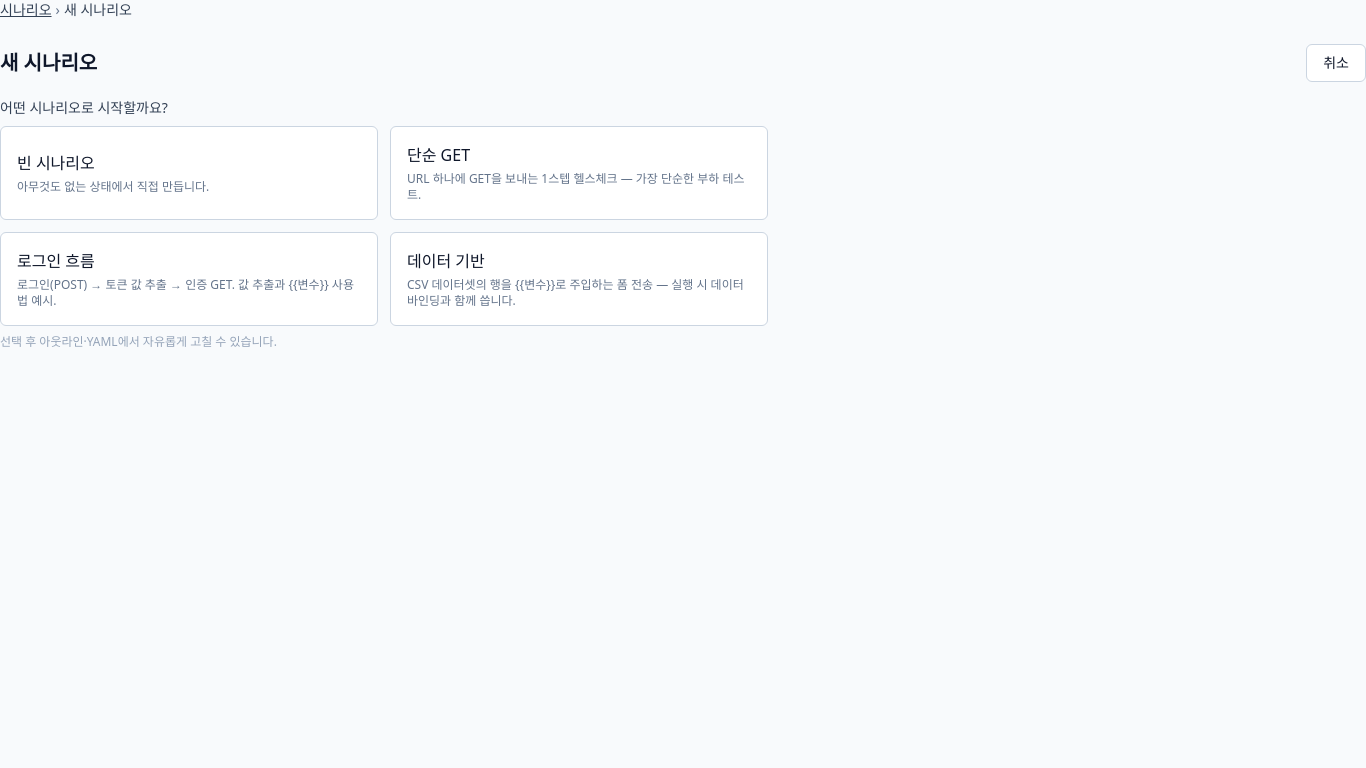
it: ScenarioNewPage 이탈 가드 › 계속 편집 → 다이얼로그 닫히고 잔류
Click the button "단순 GET URL 하나에 GET을 보내는 1스텝 헬스체크 — 가장 단순한 부하 테스트.": point(579, 173) 390,126 -> 768,220
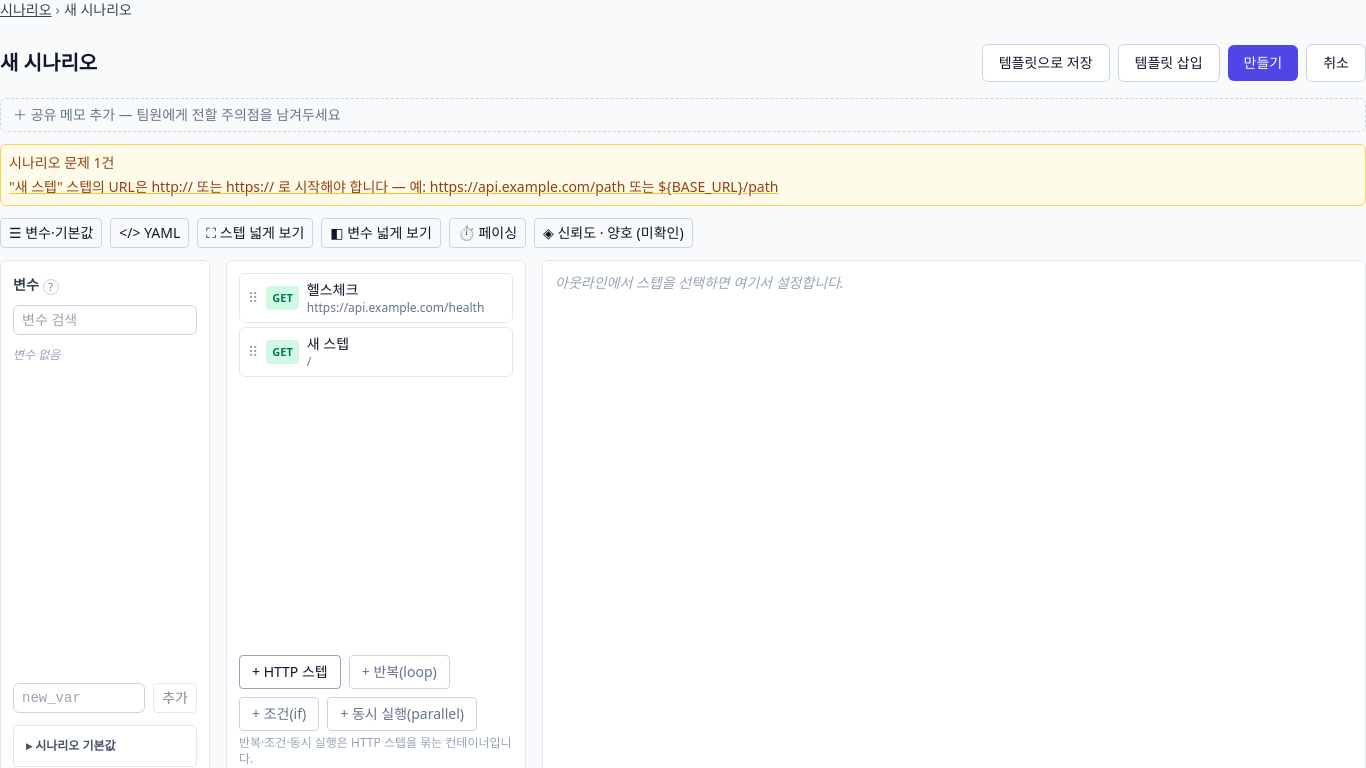
Result: the button "만들기" is shown at 1228,45 -> 1298,81
Click the button "취소": point(1336, 63) 1306,44 -> 1365,82
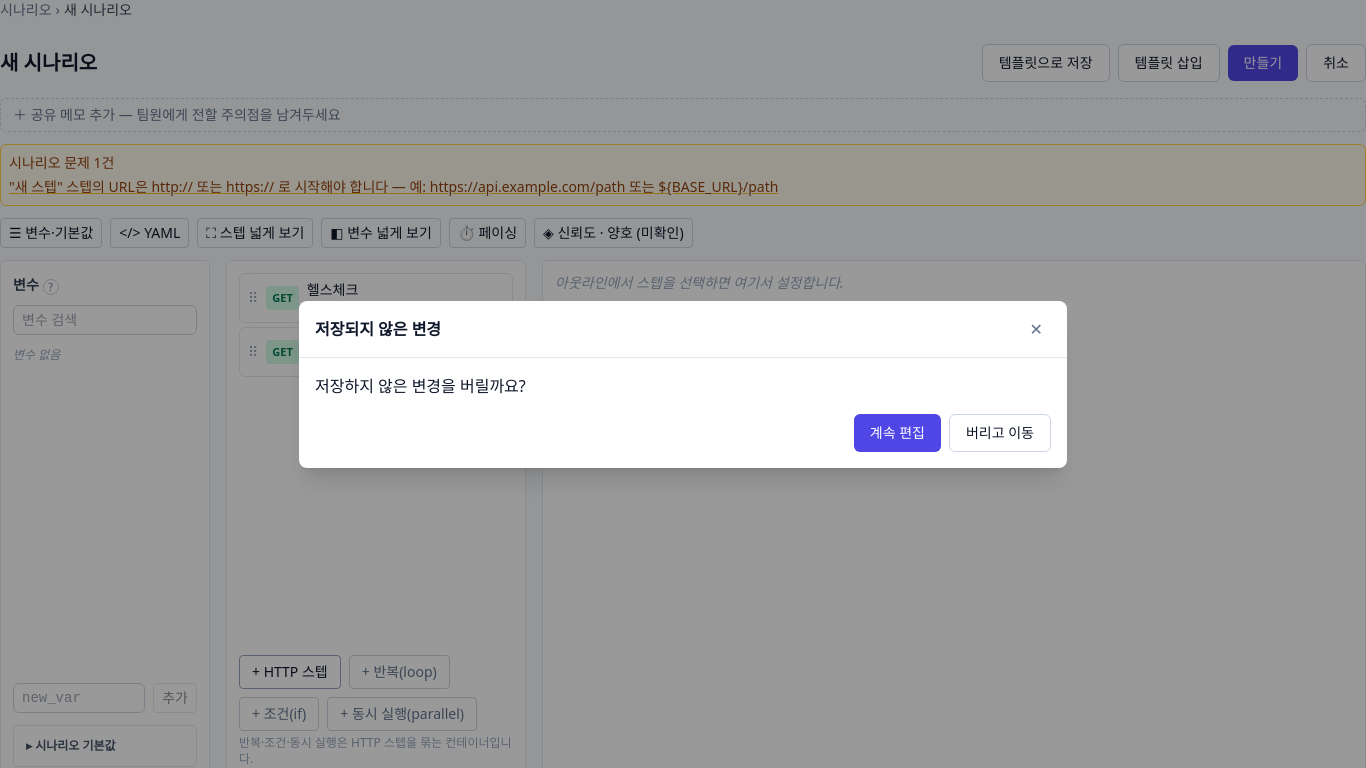
Click the button "계속 편집": point(897, 432) 854,414 -> 941,452
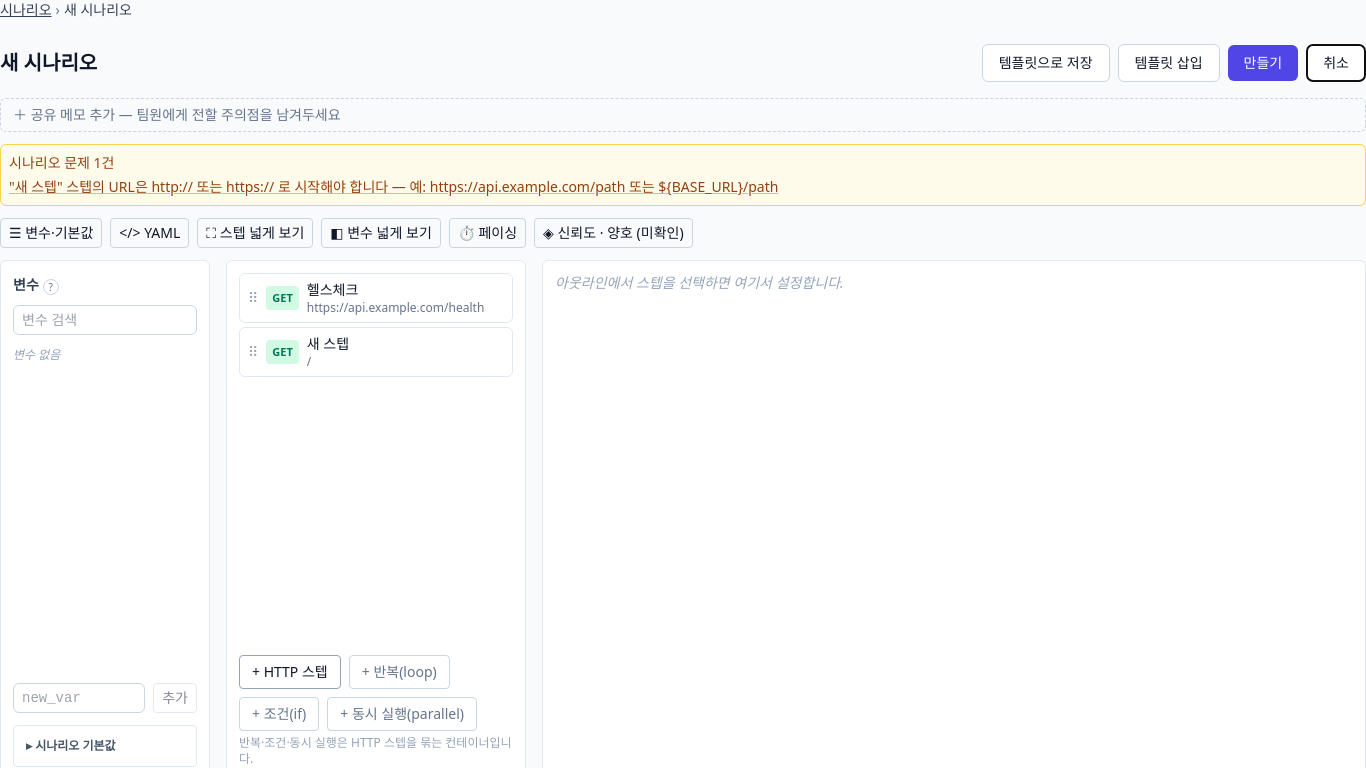
Result: the button "만들기" is shown at 1228,45 -> 1298,81
Result: the heading "저장되지 않은 변경" is gone
